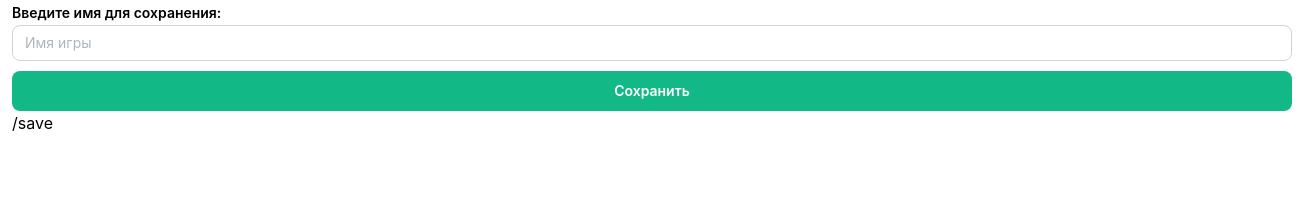
Test: SaveGame › требует непустое имя сохранения
This screenshot has width=1304, height=213.
Click the button "Сохранить".
click(652, 91)  # box [12,71,1292,111]
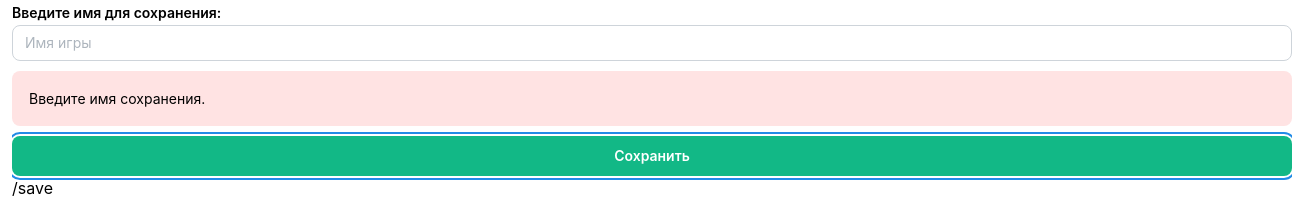
expect the text "Введите имя сохранения." is shown: met, box [29,90,205,107]
